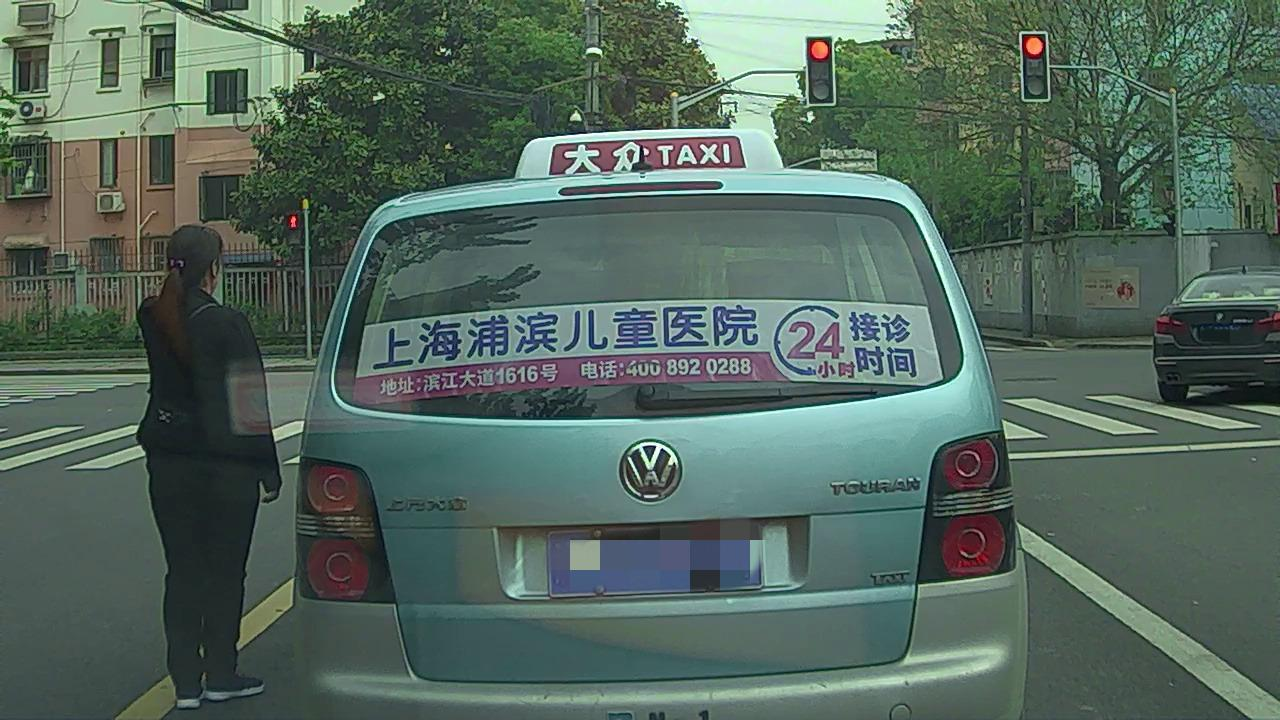traffic_light: (1021, 32, 1050, 102), (807, 39, 833, 105)
